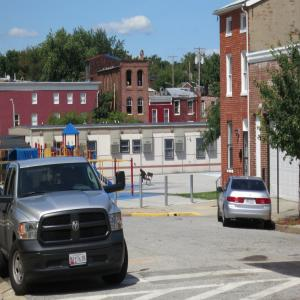Vehicle-registration-plate: (69, 252, 88, 268), (246, 200, 255, 205)
